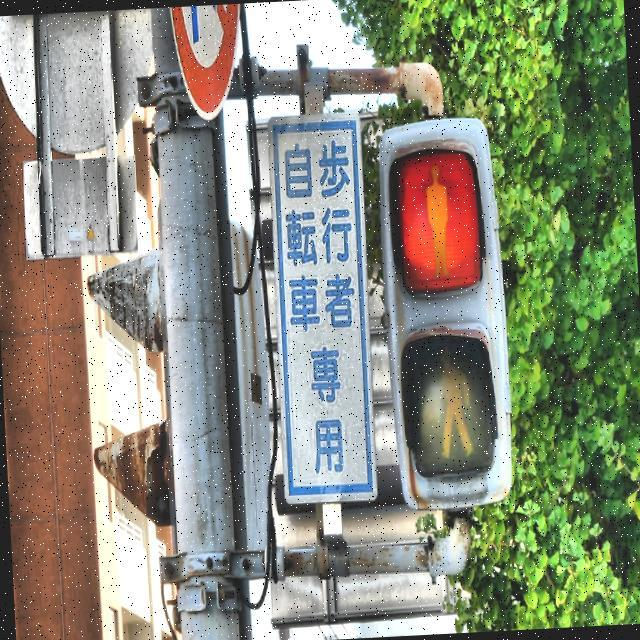red_light: (420, 160, 454, 282)
